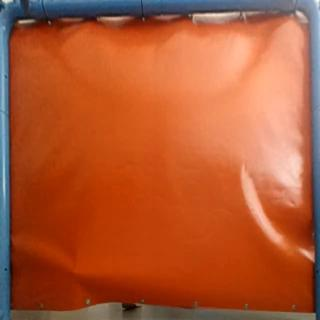Hit-hRxx: (68, 262, 82, 280)
